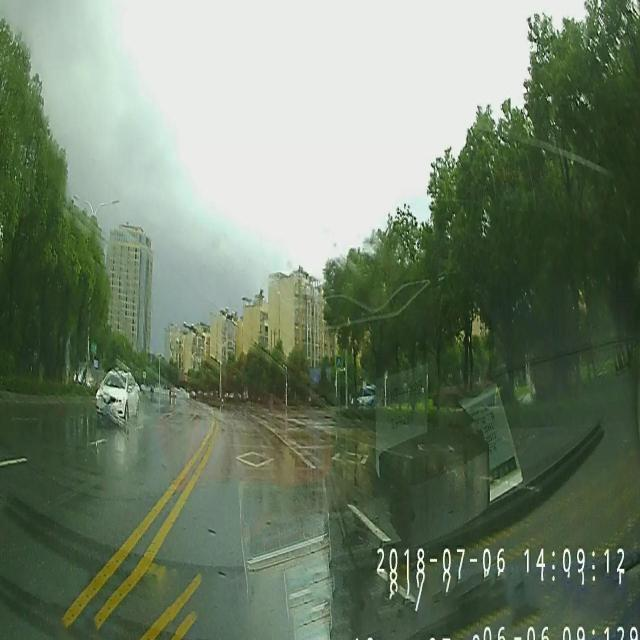car: (94, 368, 139, 426)
